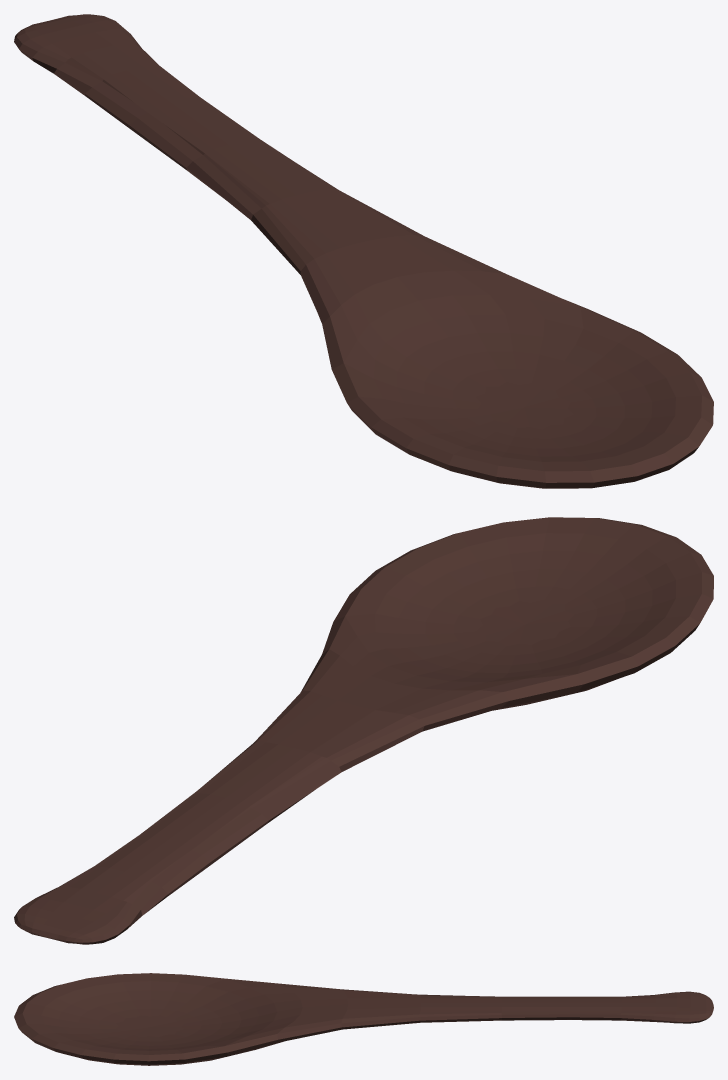
The model's file is ladle.fbx.
The picture shows the model from 3 angles, top to bottom: view 1: azimuth 30°, elevation 25°; view 2: azimuth 150°, elevation 25°; view 3: azimuth 270°, elevation 25°; orthographic projection. The views are drawn at different scales.
Parts seen in each view (by area): view 1: ladle; view 2: ladle; view 3: ladle.
Boxes of the visible parts, bbox=[...] form: ladle: bbox=[14, 14, 713, 488]; ladle: bbox=[14, 517, 713, 944]; ladle: bbox=[14, 973, 713, 1065].
Bounding box in the file's own units: 115 × 390 × 23.45.
